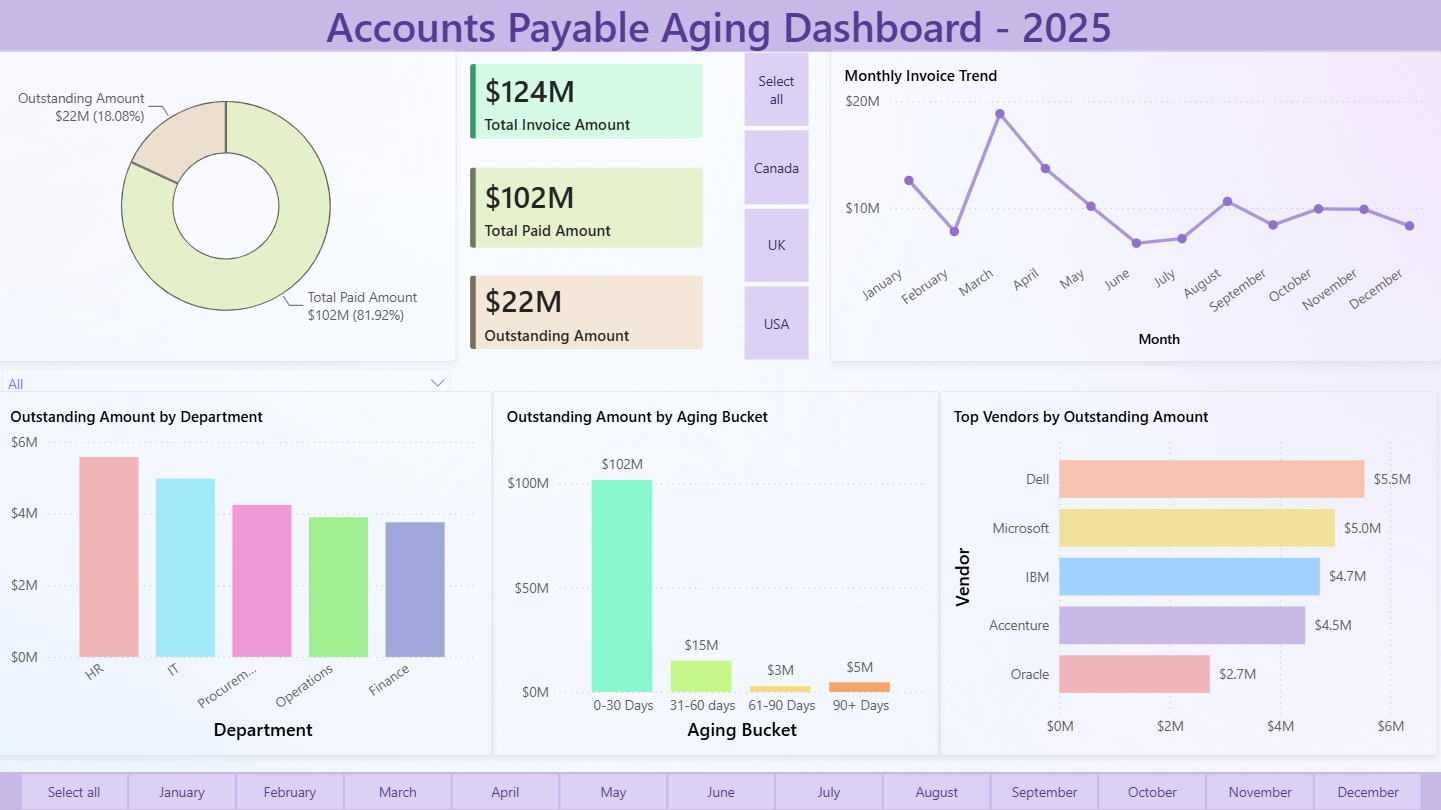

Layout of this report page (visuals, bound fields, positions):
{"tool":"powerbi","page":{"name":"Page 1","canvas":[1280,720],"ordinal":0},"visuals":[{"type":"cardVisual","fields":{"Data":["AP_Data.Total Invoice Amount"]},"box":[407.3,46.4,229.5,99.5],"z":2},{"type":"textbox","title":"Accounts Payable Aging Dashboard - 2025","box":[0,0,1279.4,47.2],"z":4},{"type":"lineChart","title":"Monthly Invoice Trend","fields":{"Y":["AP_Data.Total Invoice Amount"],"Category":["Calendar.Month Name"]},"box":[737.4,46.9,542.1,275.6],"z":5},{"type":"clusteredBarChart","title":"Top Vendors by Outstanding Amount","fields":{"Category":["AP_Data.Vendor"],"Y":["AP_Data.Outstanding Amount"]},"box":[834.3,348.3,442.1,322.5],"z":6},{"type":"clusteredColumnChart","title":"Outstanding Amount by Aging Bucket","fields":{"Category":["AP_Data.Aging Bucket"],"Y":["Sum(AP_Data.Invoice_Amount)"]},"box":[439.1,348.3,395.2,322.5],"z":7},{"type":"slicer","fields":{"Values":["AP_Data.Country"]},"box":[640.5,46.9,96.9,275.6],"z":8},{"type":"slicer","fields":{"Values":["Calendar.Month Name"]},"box":[1.5,684.4,1278,34.8],"z":9},{"type":"slicer","fields":{"Values":["AP_Data.Vendor"]},"box":[0,322.5,407.3,25.7],"z":10},{"type":"donutChart","fields":{"Y":["AP_Data.Total Paid Amount","AP_Data.Outstanding Amount"]},"box":[0,46.9,407.3,275.6],"z":12},{"type":"clusteredColumnChart","fields":{"Category":["AP_Data.Department"],"Y":["AP_Data.Outstanding Amount"]},"box":[0,348.3,439.1,322.5],"z":13},{"type":"cardVisual","fields":{"Data":["AP_Data.Outstanding Amount"]},"box":[407.3,221.6,229.5,100.8],"z":14},{"type":"cardVisual","fields":{"Data":["AP_Data.Total Paid Amount"]},"box":[407.3,136.7,229.5,96.9],"z":15}]}

Visuals, with their boxes in screenshot pixels (x1, y1, x2, y2), scaled from the page's 1280x720 canvas onto the 1441x810 screenshot:
cardVisual - AP_Data.Total Invoice Amount: box(459, 52, 717, 164)
"Accounts Payable Aging Dashboard - 2025" textbox: box(0, 0, 1440, 53)
"Monthly Invoice Trend" lineChart: box(830, 53, 1440, 363)
"Top Vendors by Outstanding Amount" clusteredBarChart: box(939, 392, 1437, 755)
"Outstanding Amount by Aging Bucket" clusteredColumnChart: box(494, 392, 939, 755)
slicer - AP_Data.Country: box(721, 53, 830, 363)
slicer - Calendar.Month Name: box(2, 770, 1440, 809)
slicer - AP_Data.Vendor: box(0, 363, 459, 392)
donutChart - AP_Data.Total Paid Amount x AP_Data.Outstanding Amount: box(0, 53, 459, 363)
clusteredColumnChart - AP_Data.Department x AP_Data.Outstanding Amount: box(0, 392, 494, 755)
cardVisual - AP_Data.Outstanding Amount: box(459, 249, 717, 363)
cardVisual - AP_Data.Total Paid Amount: box(459, 154, 717, 263)
